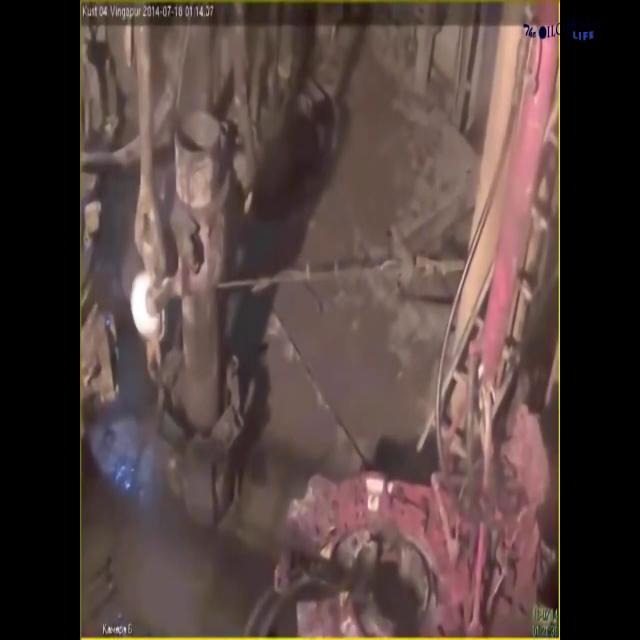spillage: (272, 260, 436, 480), (84, 436, 270, 626), (276, 64, 436, 268)
